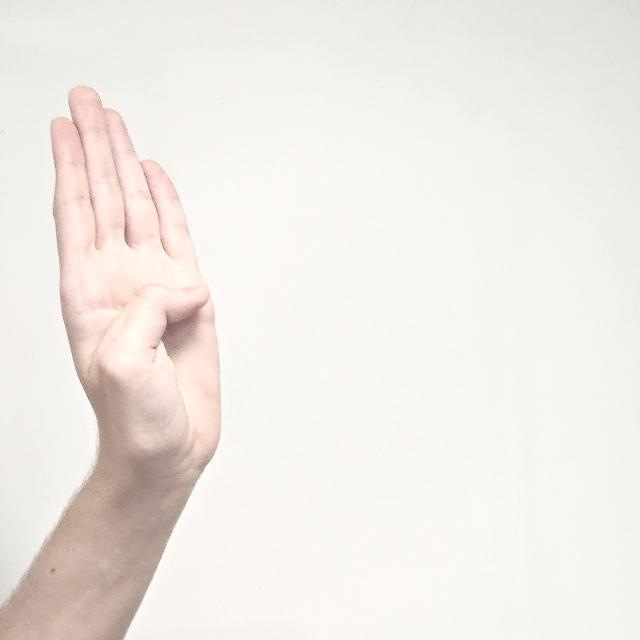Baixo: (43, 79, 225, 522)
